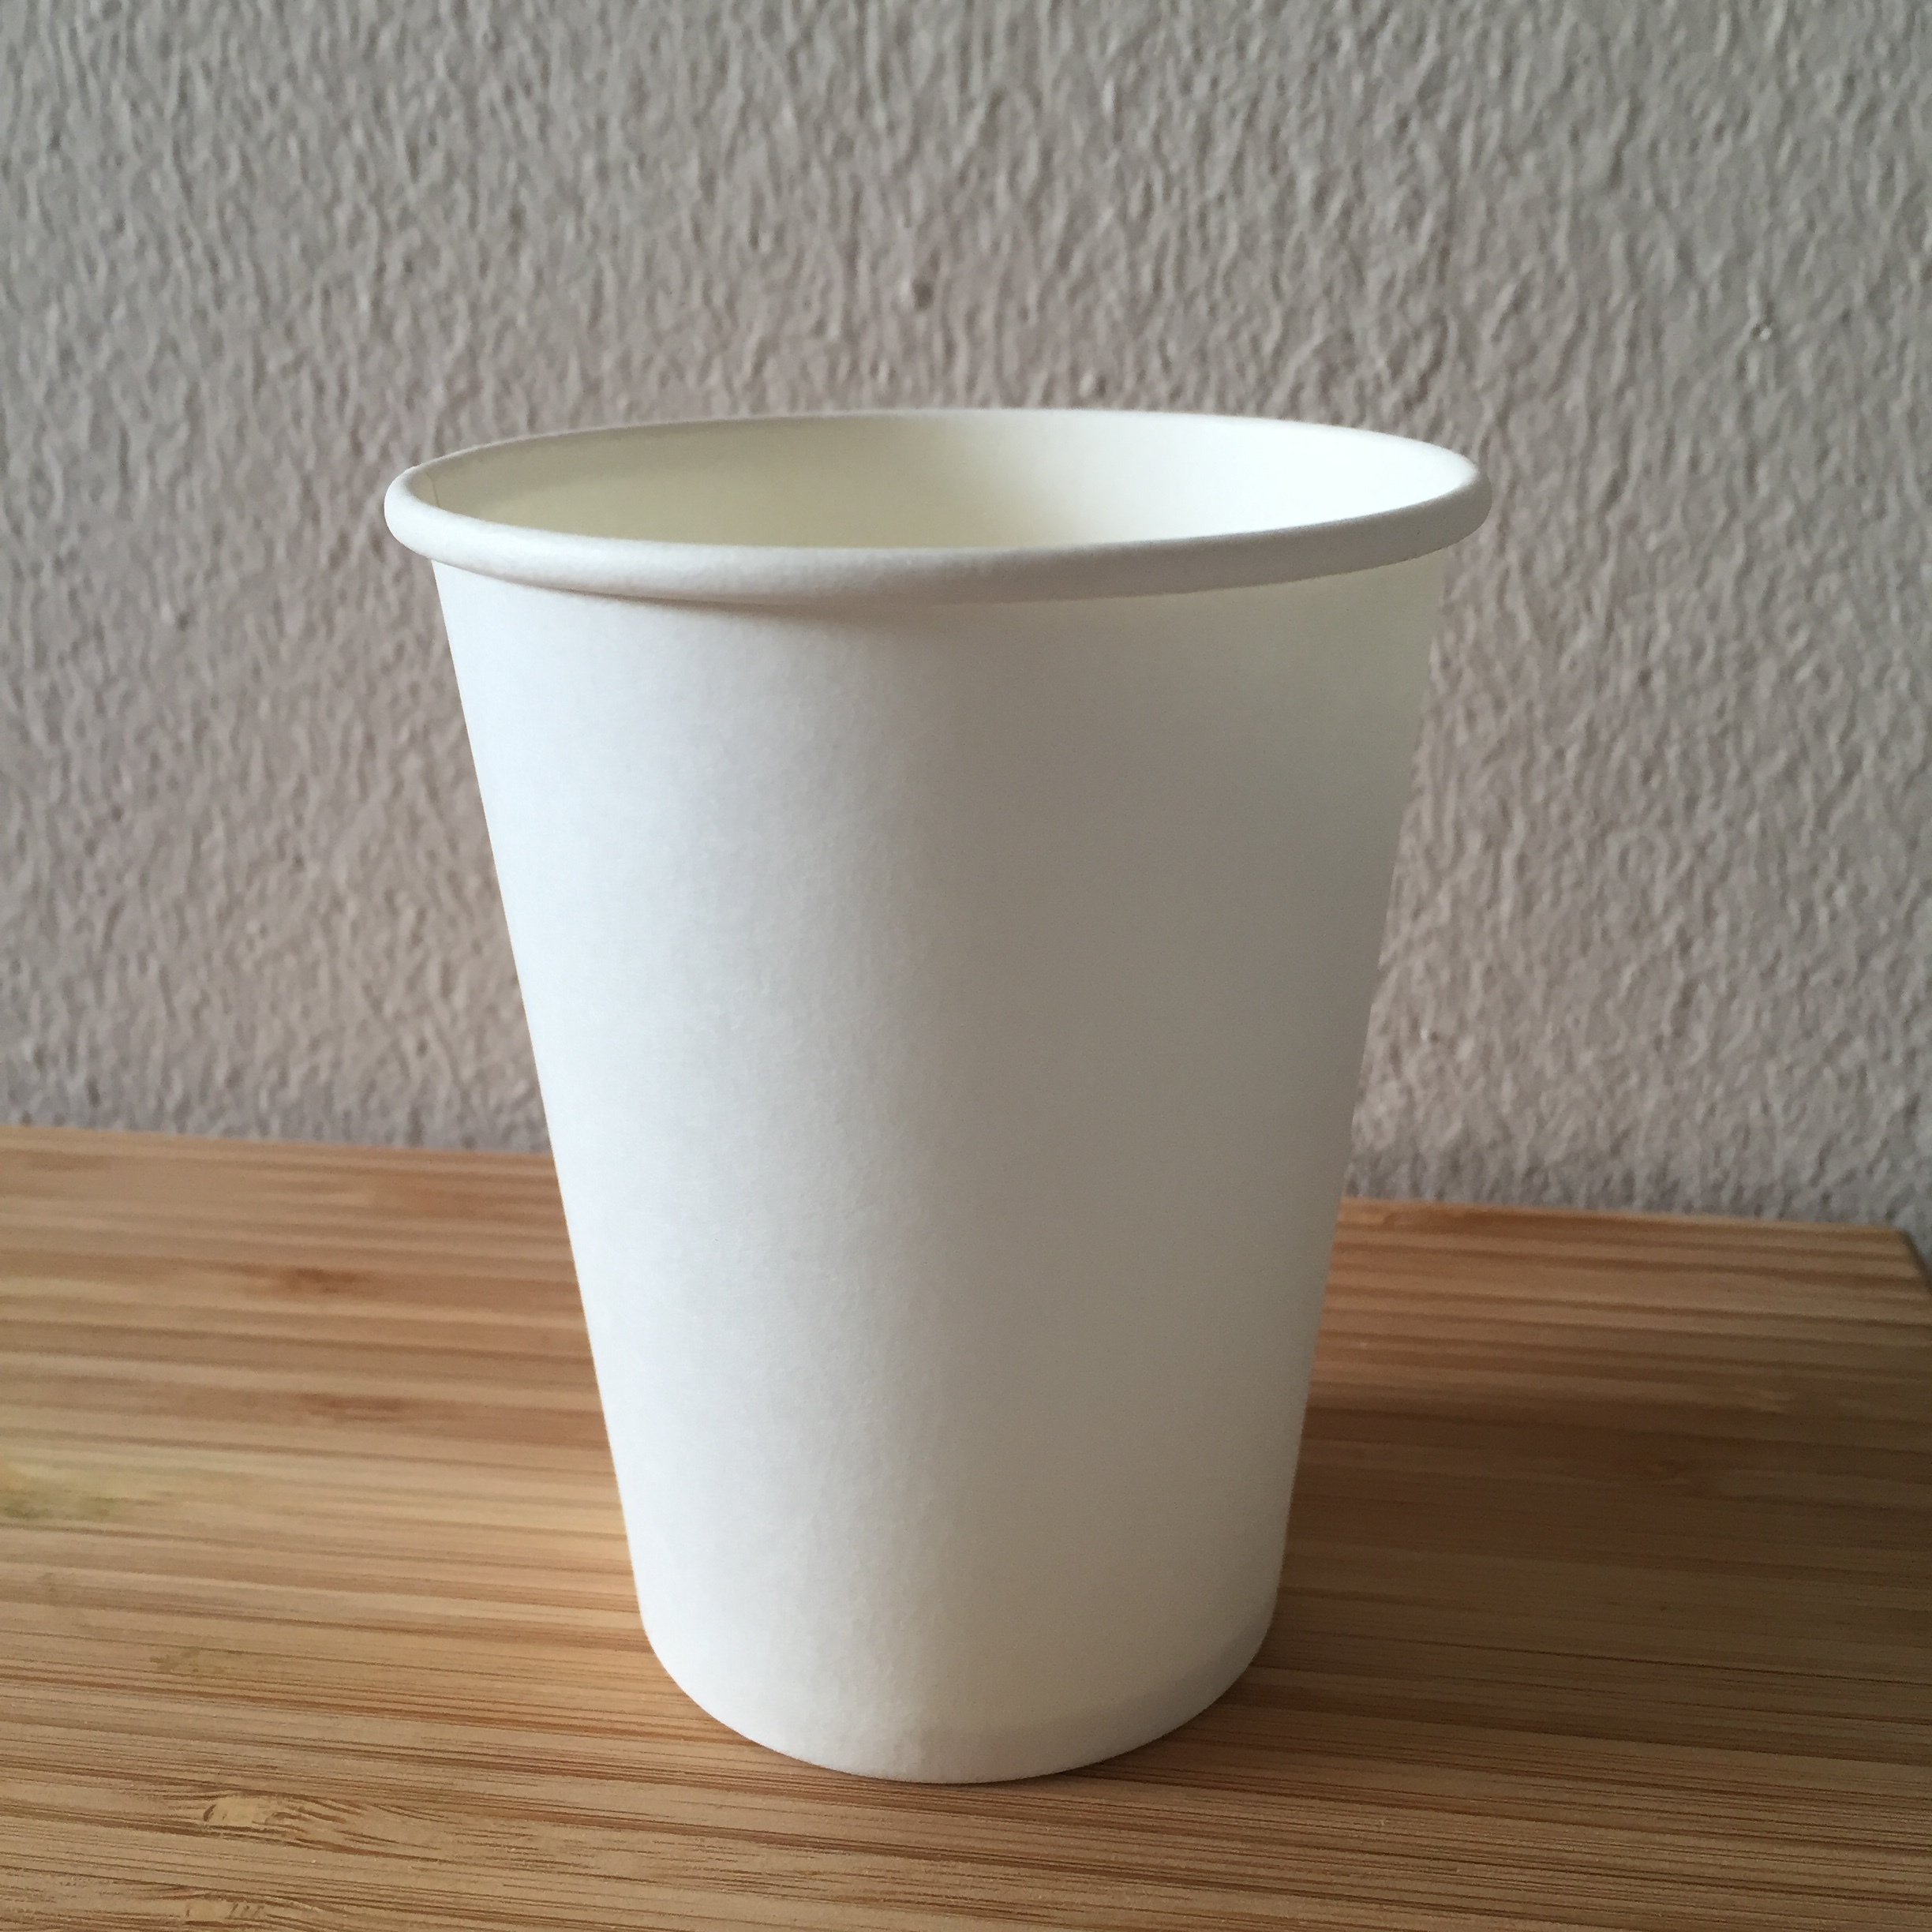PaperCup: (370, 391, 1509, 1803)
